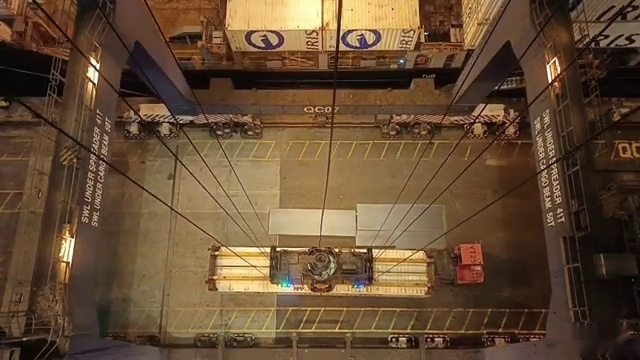container: (202, 240, 470, 300), (221, 0, 427, 55), (206, 0, 435, 24), (213, 0, 439, 24), (214, 0, 430, 21), (213, 0, 437, 14), (210, 0, 440, 12), (219, 0, 418, 10)
guide_mark: (57, 309, 543, 333), (109, 141, 537, 161)
spreader: (195, 240, 449, 305)
target_slot: (192, 239, 457, 302)
